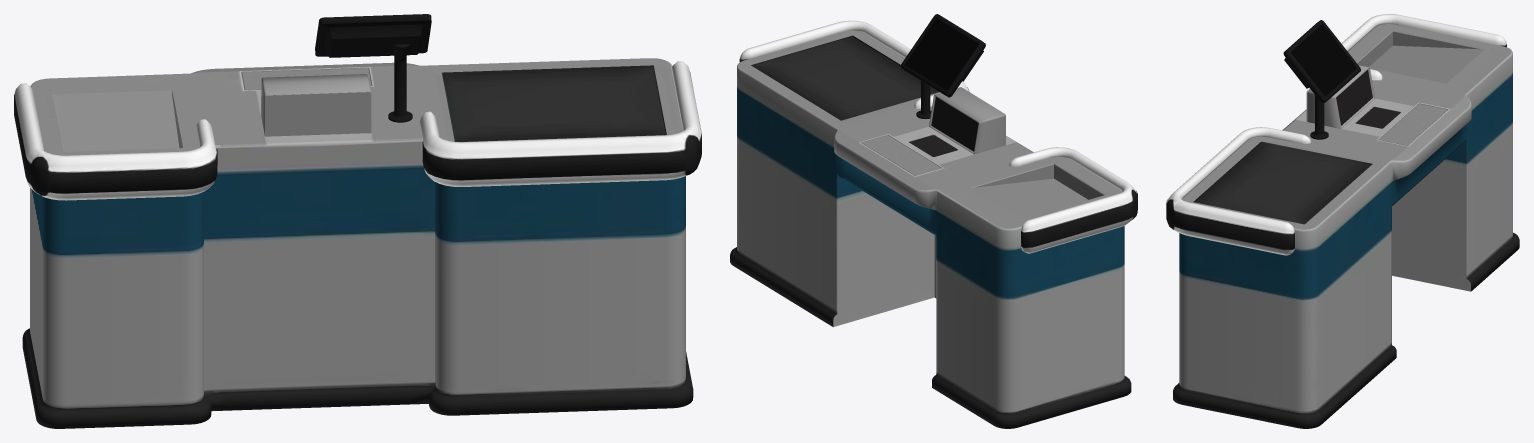
File: OBJ-checkout.glb
The picture shows the model from 3 angles, left to right: view 1: azimuth 30°, elevation 25°; view 2: azimuth 150°, elevation 25°; view 3: azimuth 270°, elevation 25°; orthographic projection. The views are drawn at different scales.
Parts seen in each view (by area): view 1: body, z_porte_caisse_no_norm, pied_ecran; view 2: body, z_porte_caisse_no_norm, pied_ecran; view 3: body, z_porte_caisse_no_norm, pied_ecran.
Boxes of the visible parts, x1,y1,x2,y2 form: body: (22,58,693,428); z_porte_caisse_no_norm: (14,61,701,200); pied_ecran: (315,14,431,122); body: (730,30,1131,428); z_porte_caisse_no_norm: (739,20,1137,253); pied_ecran: (900,14,985,119); body: (1173,24,1519,428); z_porte_caisse_no_norm: (1166,14,1506,255); pied_ecran: (1283,20,1360,139).
Size of the model in its own units: 2 by 1.23 by 1.39.
Materials: 3 (2 with a texture image).
